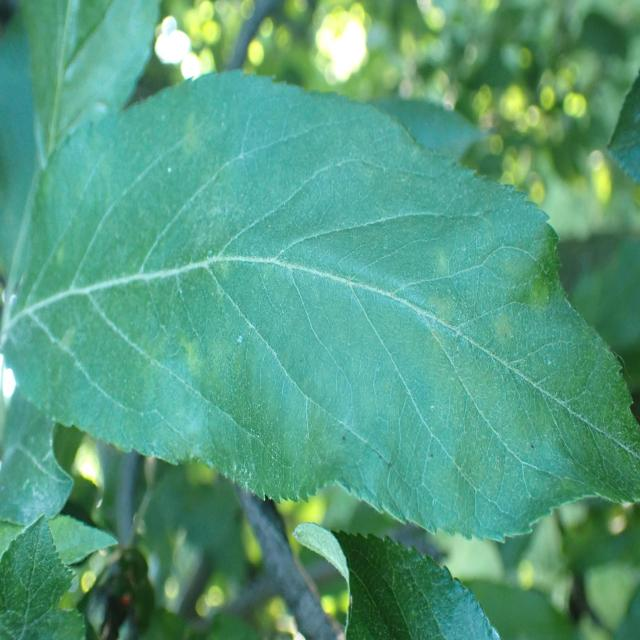scab: (45, 127, 583, 482)
